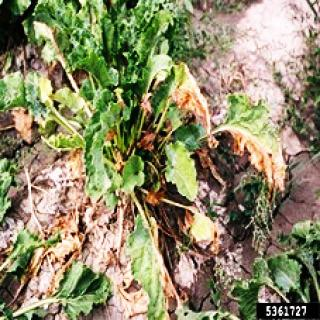wilt: (138, 177, 226, 269), (153, 56, 221, 140), (222, 114, 291, 190), (31, 212, 87, 264), (10, 102, 44, 156)
